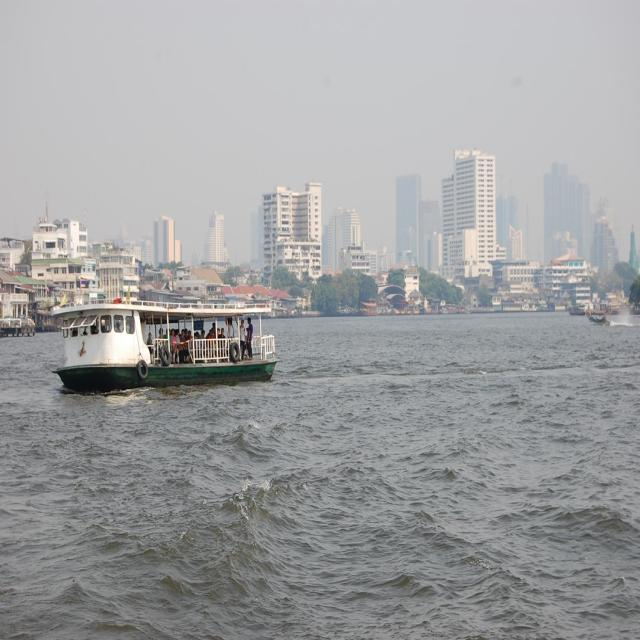houseboat: (58, 284, 273, 399)
